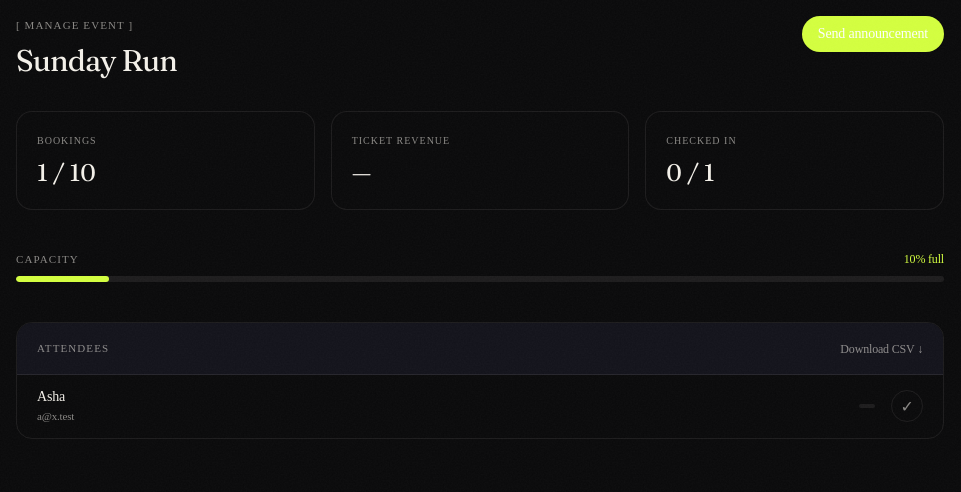
Test: host event detail › a failed check-in shows a visible error on the page
The image size is (961, 492).
Expected: the text "Asha" is shown, [37,389,65,404]
Click the button "✓": (907, 406) [891,390,923,422]
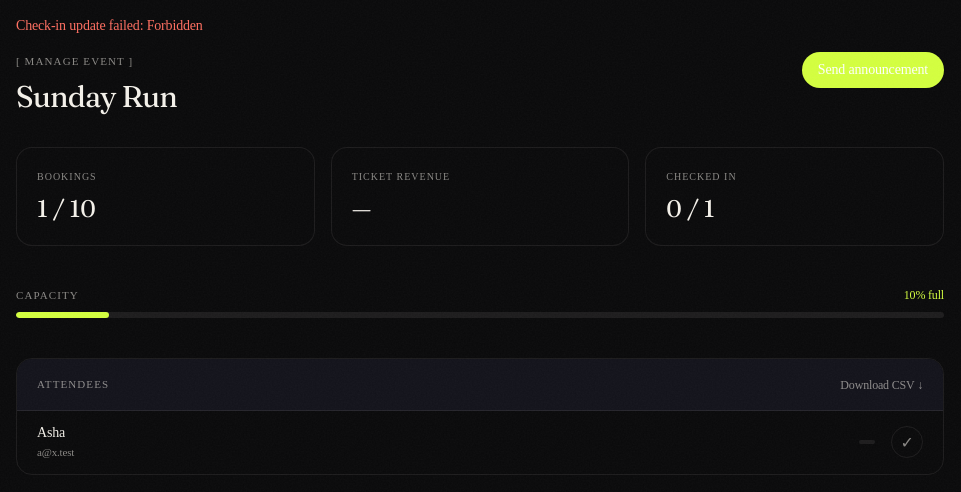
Expected: the message reads "Check-in update failed: Forbidden", [16,18,203,33]
